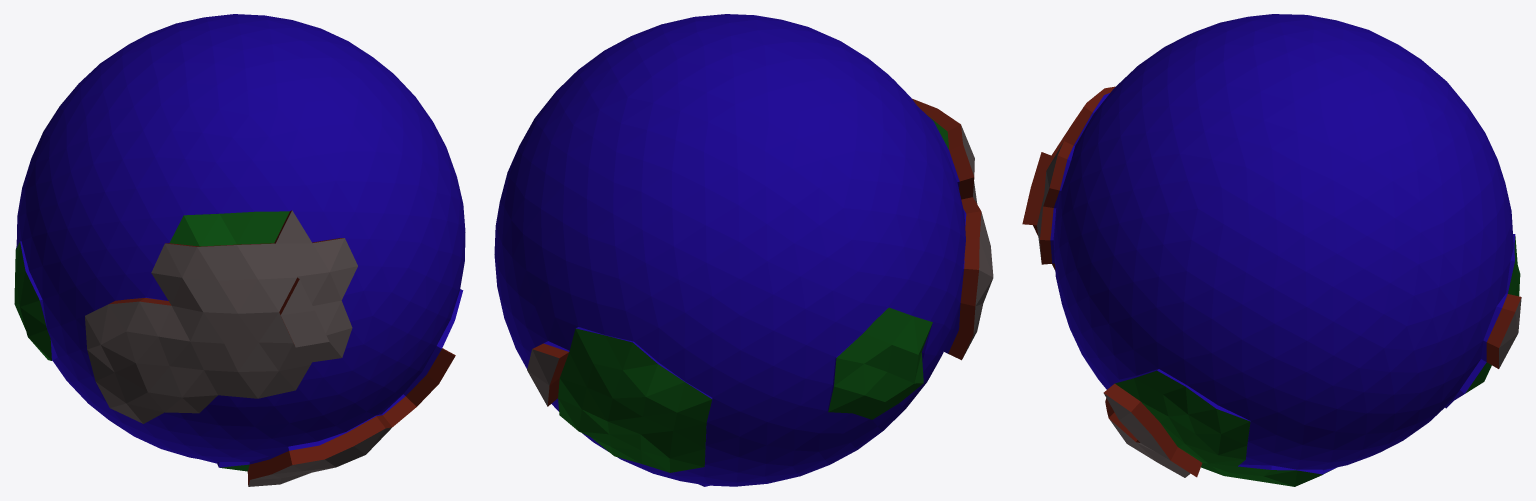
File: Planet.fbx
3 views of the same model, side by side, from view 1: azimuth 30°, elevation 25°; view 2: azimuth 150°, elevation 25°; view 3: azimuth 270°, elevation 25° (orthographic). The views are drawn at different scales.
Parts seen in each view (by area): view 1: Planet; view 2: Planet; view 3: Planet.
Part boxes in pixels (left/top/right/bottom): Planet: left=14, top=14, right=465, bottom=486; Planet: left=494, top=14, right=993, bottom=486; Planet: left=1022, top=14, right=1521, bottom=486.
Size of the model in its own units: 9.91 by 9.97 by 10.62.
